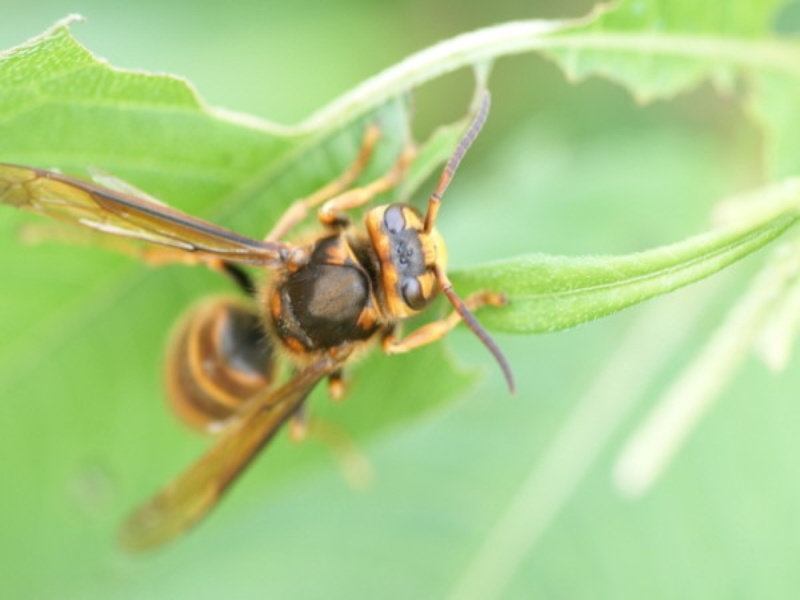asian_giant_hornet: (151, 94, 501, 462)
